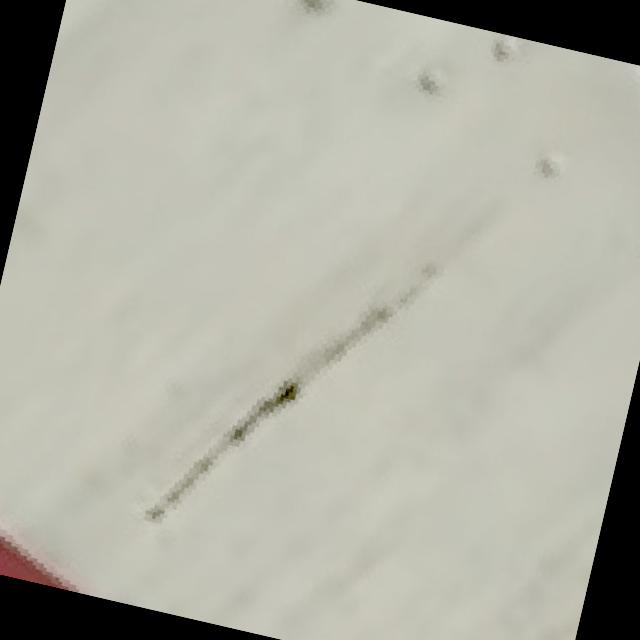crack: (98, 218, 476, 605)
